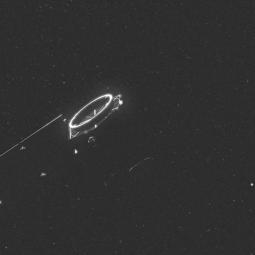earth_observation_sat_1: (42, 86, 158, 186)
